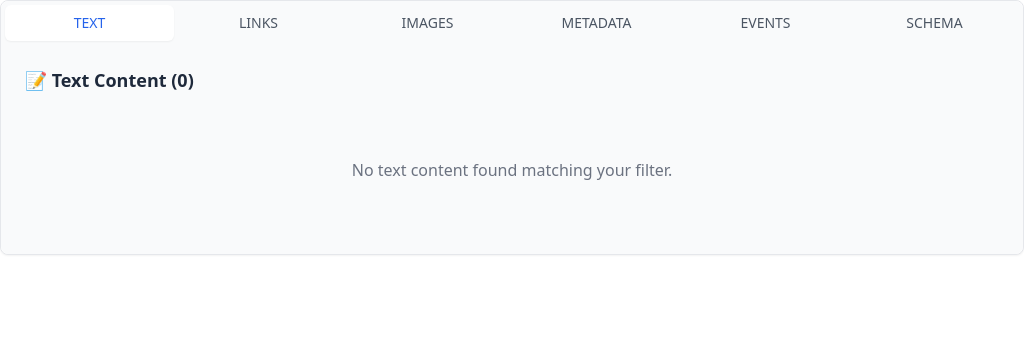
Scenario: ScrapeResultTabs with Schema.org Data › Images Tab › filters images correctly
Click the button "IMAGES": coordinates (428, 23) x1=343 y1=5 x2=512 y2=41
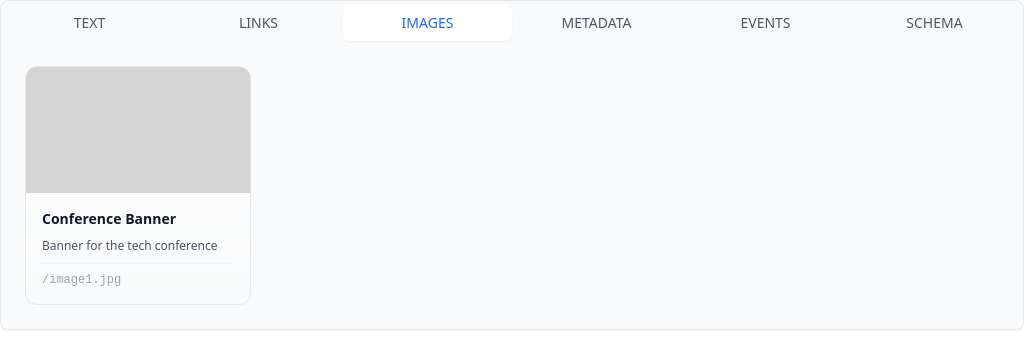
Now the heading "Conference Banner" is shown, box x1=42 y1=209 x2=176 y2=228
